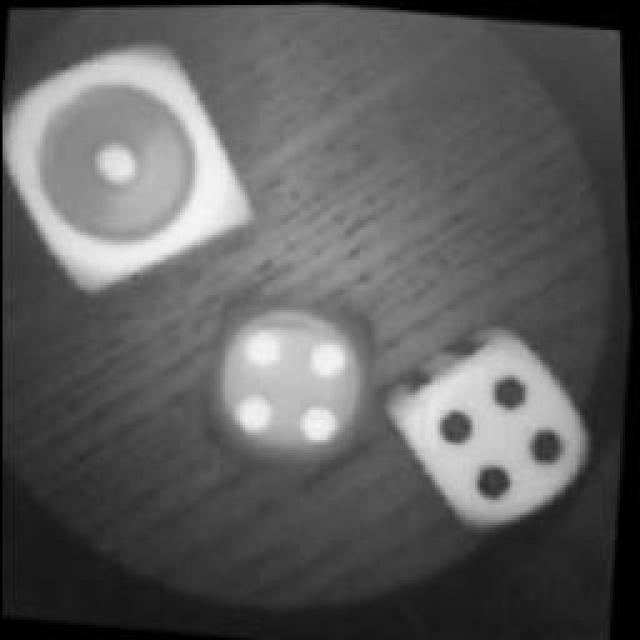dice_1: (0, 36, 275, 302)
dice_4: (385, 326, 605, 536), (204, 299, 396, 479)
